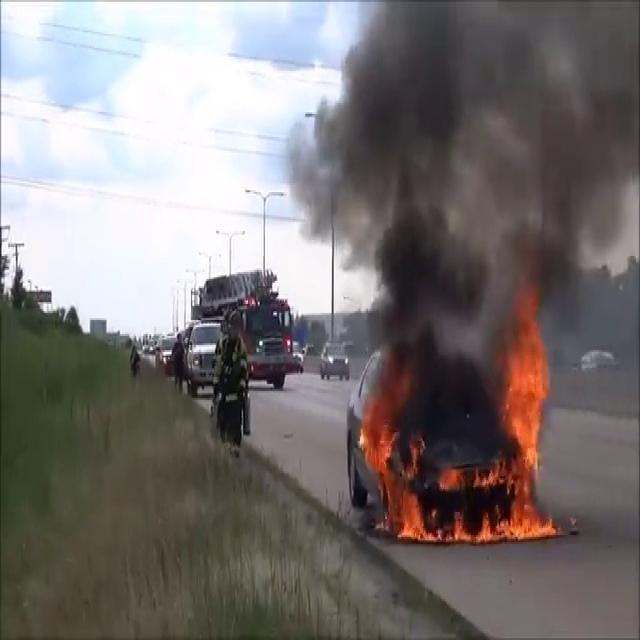Fire: (361, 402, 559, 544), (492, 296, 559, 540)
Smoke: (305, 0, 640, 389)
